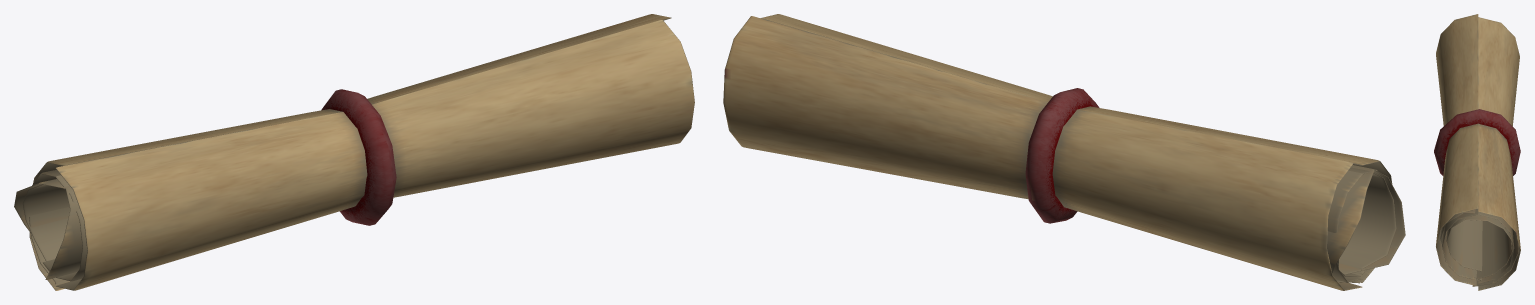
Rendered from Scroll.gltf.
3 views of the same model, side by side, from view 1: azimuth 30°, elevation 25°; view 2: azimuth 150°, elevation 25°; view 3: azimuth 270°, elevation 25° (orthographic). The views are drawn at different scales.
Visible parts, largest first — view 1: BézierCurve; view 2: BézierCurve; view 3: BézierCurve.
Boxes of the visible parts, box(x1,y1,x2,y2) form: BézierCurve: box(14, 14, 694, 290); BézierCurve: box(723, 14, 1405, 290); BézierCurve: box(1434, 14, 1520, 290).
Bounding box in the file's own units: 0.4266 × 0.0814 × 0.0763.
Materials: 1 (1 with a texture image).
